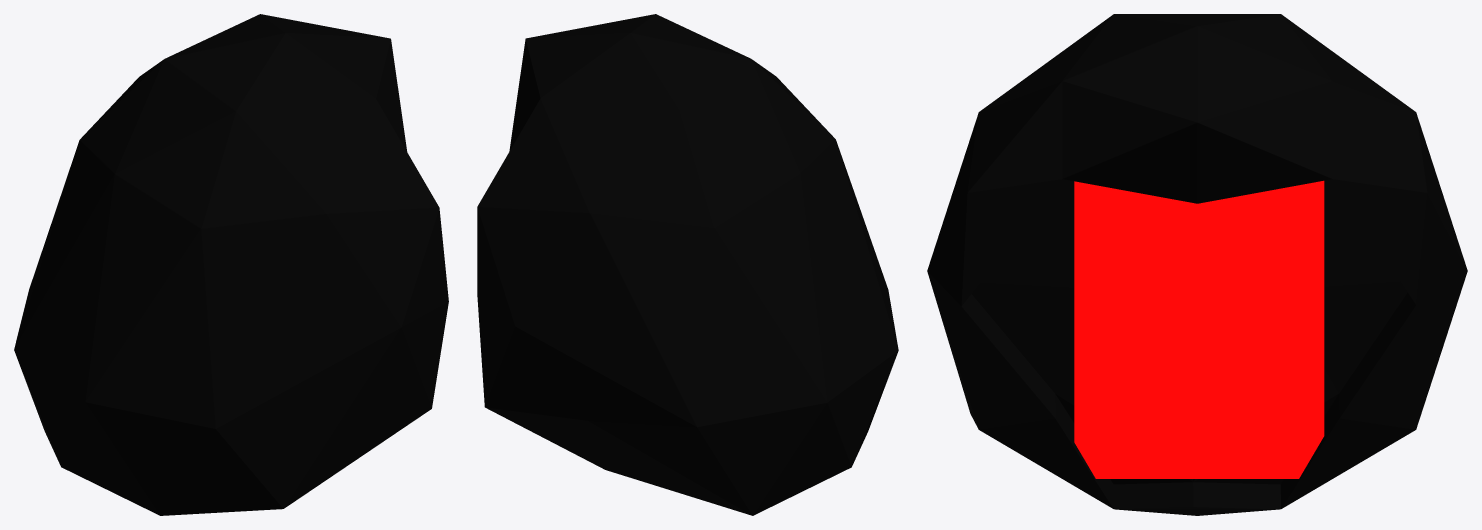
Rendered from portal.gltf.
The picture shows the model from 3 angles, left to right: view 1: azimuth 30°, elevation 25°; view 2: azimuth 150°, elevation 25°; view 3: azimuth 270°, elevation 25°; orthographic projection. The views are drawn at different scales.
Parts seen in each view (by area): view 1: PortalBody; view 2: PortalBody; view 3: PortalBody, Portal.
Part boxes in pixels (x1,y1,x2,y2): PortalBody: (14, 14, 448, 515); PortalBody: (477, 14, 898, 515); PortalBody: (927, 14, 1467, 515); Portal: (1074, 180, 1324, 478).
Bounding box in the file's own units: 2.76 × 3.26 × 3.26.
